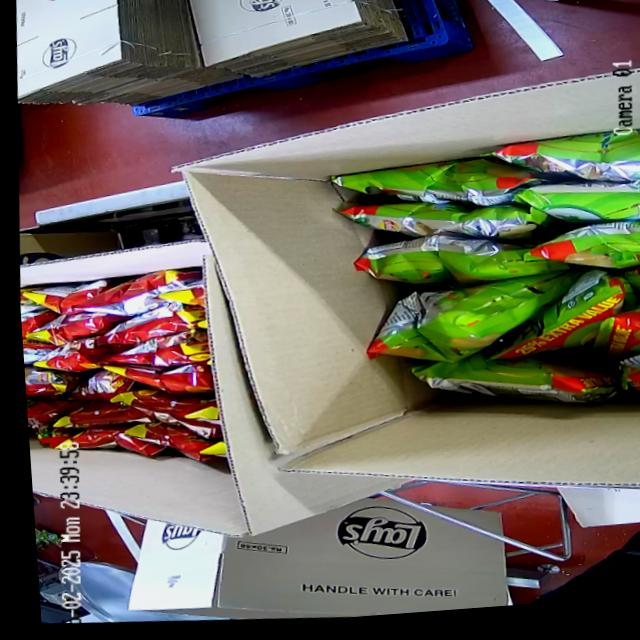MASALA: (18, 255, 235, 488)
YOGURT_HERB: (324, 102, 640, 423)
